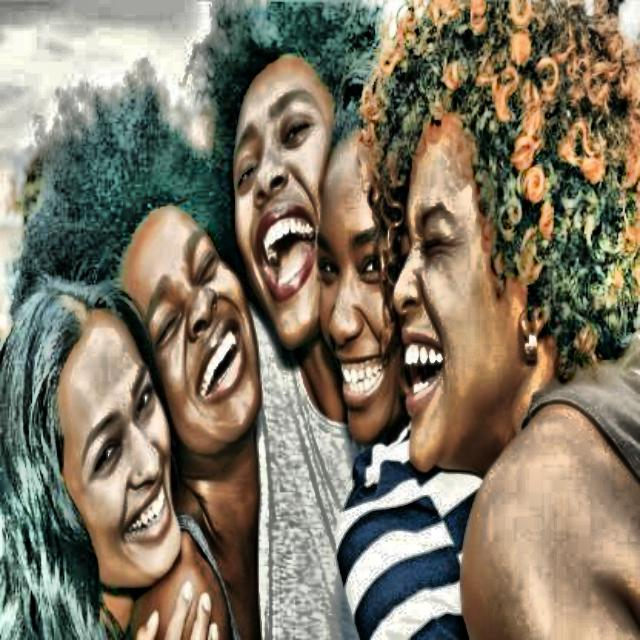happy: (388, 11, 569, 489), (214, 20, 366, 392), (109, 126, 259, 466), (23, 334, 179, 609), (293, 115, 406, 481)
